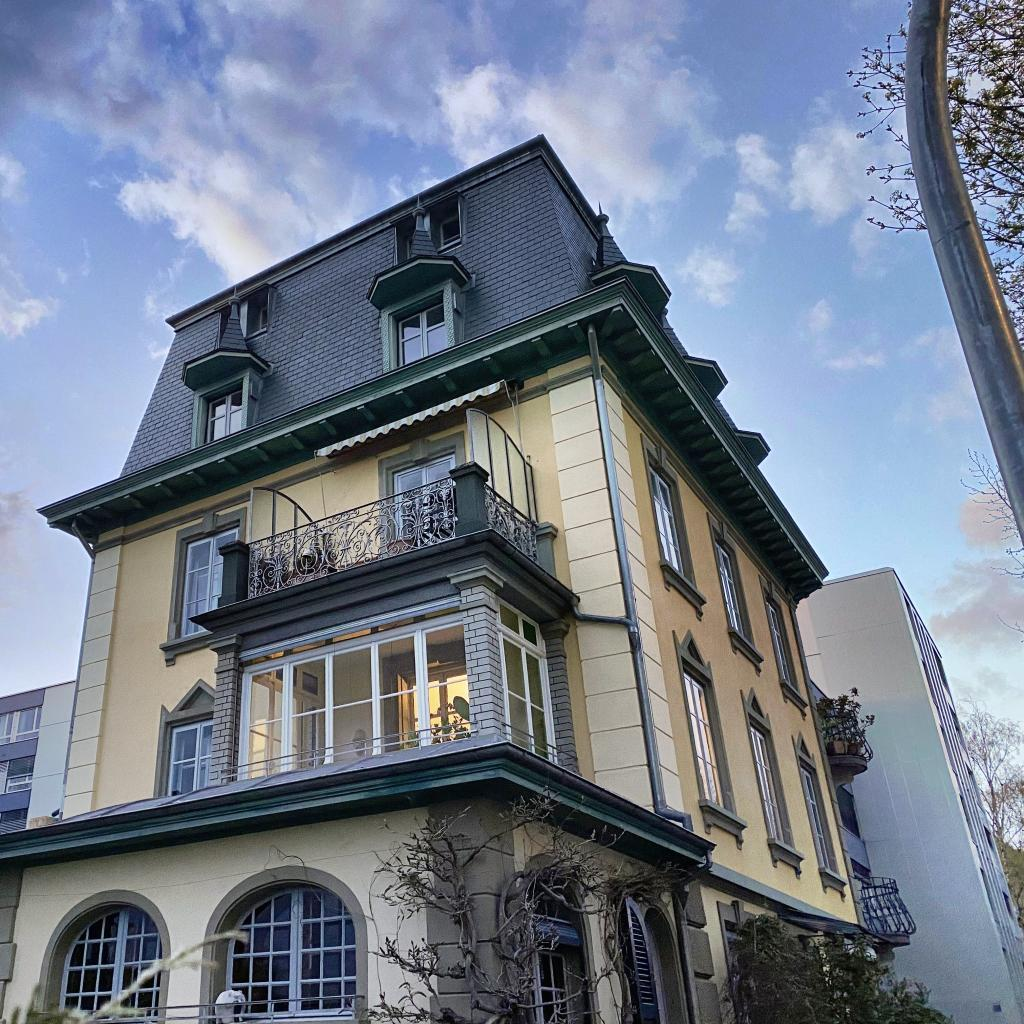balcony-fence: (243, 475, 458, 598), (220, 718, 477, 784), (484, 482, 540, 566), (502, 720, 580, 770), (854, 875, 917, 936), (814, 702, 873, 761)
facade: (0, 132, 918, 1024), (798, 567, 1024, 1024), (0, 679, 76, 836)
traffic-infrastructure: (900, 0, 1024, 561)
vegetation: (264, 781, 699, 1024), (842, 0, 1024, 374), (714, 909, 959, 1023), (1, 928, 252, 1024), (956, 693, 1024, 927), (959, 447, 1024, 583), (815, 684, 876, 746)
window: (233, 608, 473, 781), (224, 888, 354, 1022), (54, 908, 161, 1024), (495, 595, 560, 764), (680, 667, 729, 812), (177, 524, 238, 638), (392, 453, 459, 541), (749, 719, 790, 847), (646, 461, 686, 579), (800, 758, 838, 874), (530, 943, 582, 1024), (166, 718, 213, 797), (396, 299, 448, 369), (715, 537, 748, 641), (765, 599, 795, 689), (204, 386, 242, 445), (0, 706, 42, 745), (0, 756, 35, 795), (0, 808, 28, 836), (439, 211, 460, 247), (258, 303, 269, 330), (406, 231, 415, 259)
